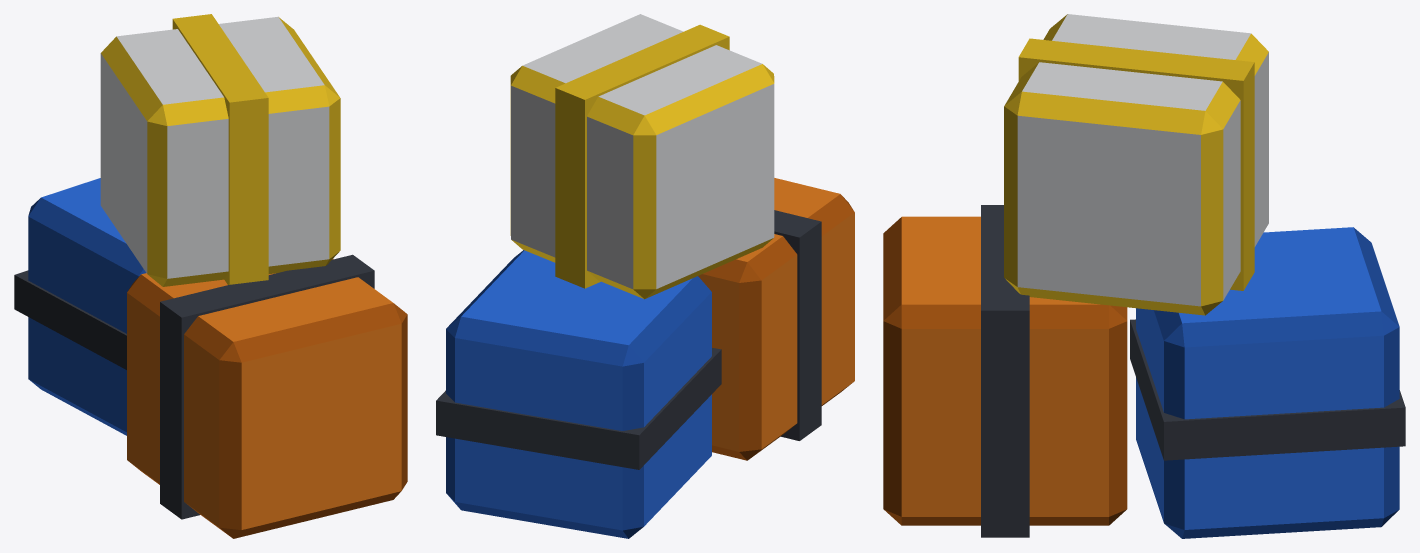
File: crates.glb
3 renders of one model, left to right at view 1: azimuth 30°, elevation 25°; view 2: azimuth 150°, elevation 25°; view 3: azimuth 270°, elevation 25°, orthographic. The views are drawn at different scales.
Visible parts, largest first — view 1: Body; view 2: Body; view 3: Body.
Part boxes in pixels (bbox=[...]): Body: bbox=[14, 14, 407, 538]; Body: bbox=[436, 14, 854, 538]; Body: bbox=[883, 14, 1405, 538].
Bounding box in the file's own units: 0.9318 × 1.56 × 1.71.
